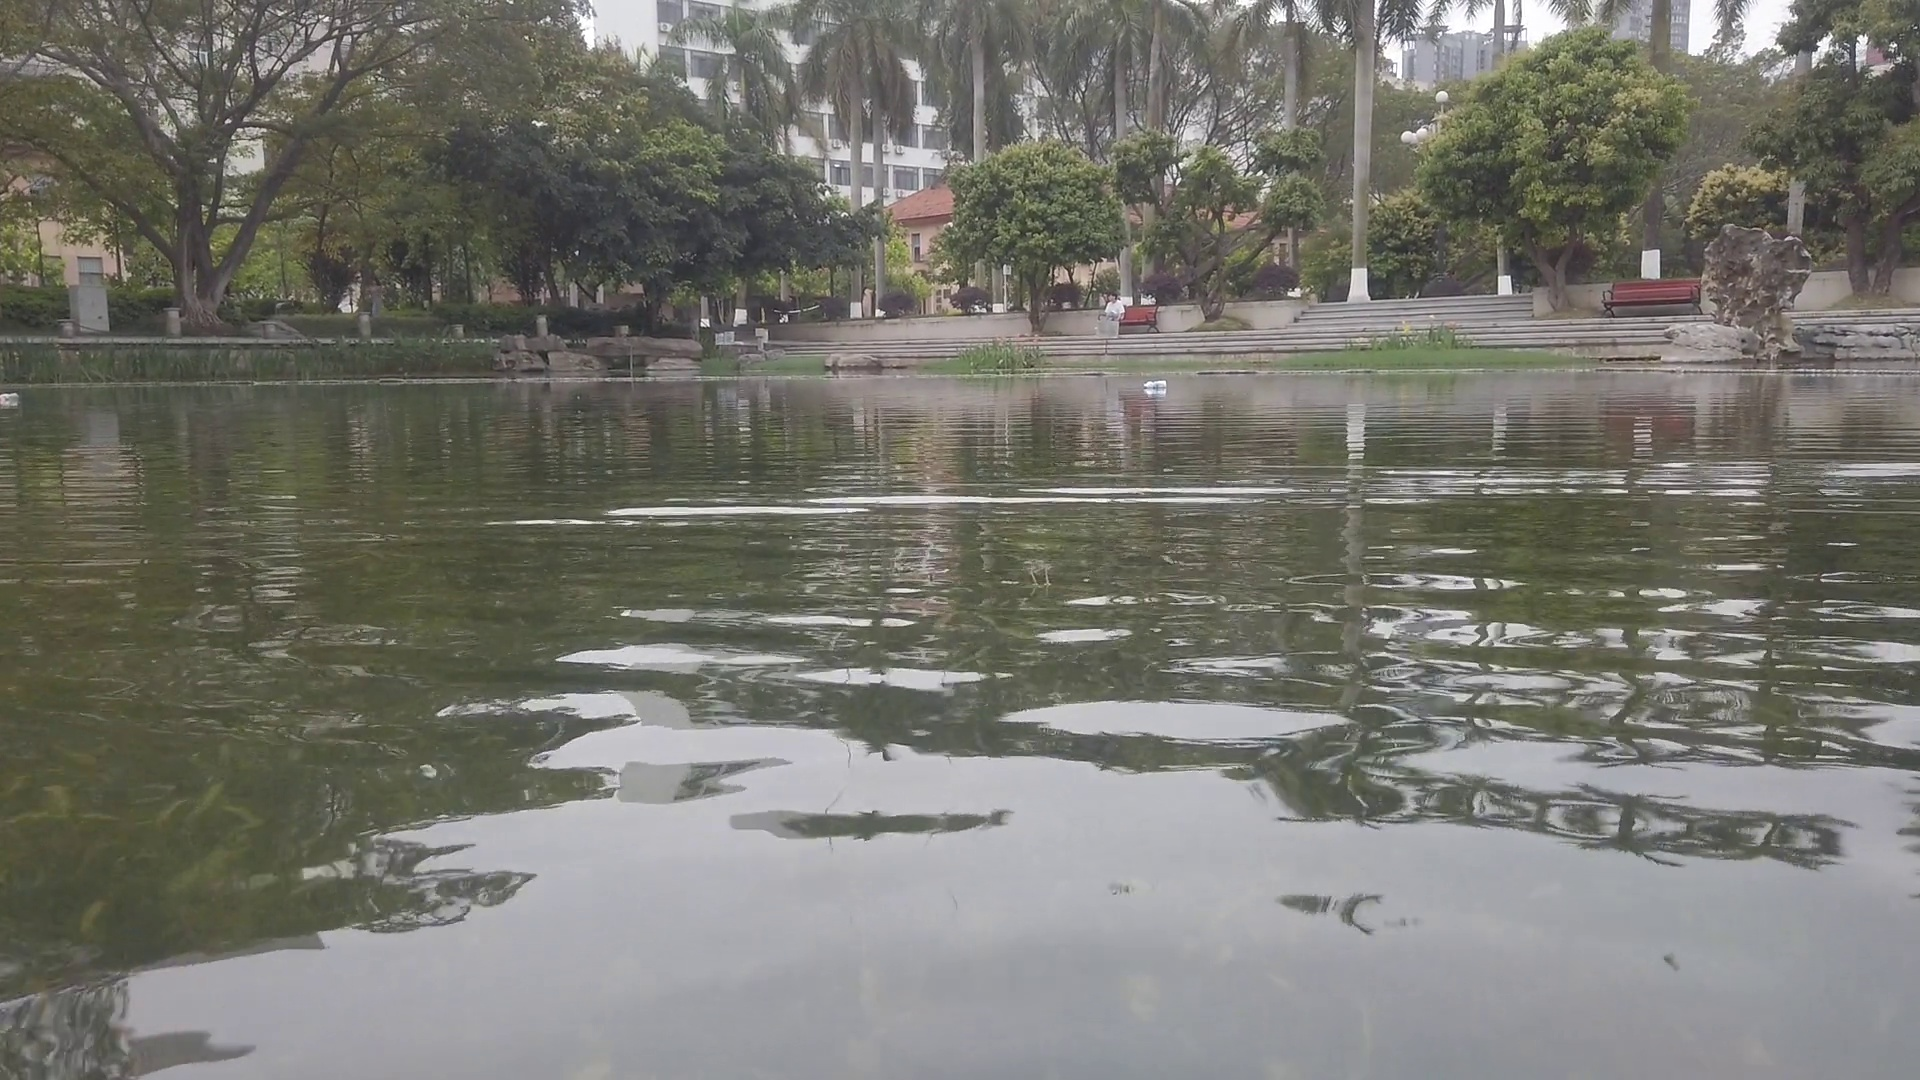bottle: (1143, 380, 1167, 390), (1, 393, 20, 405)
